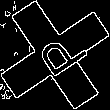P_SW: (23, 26, 87, 84)
